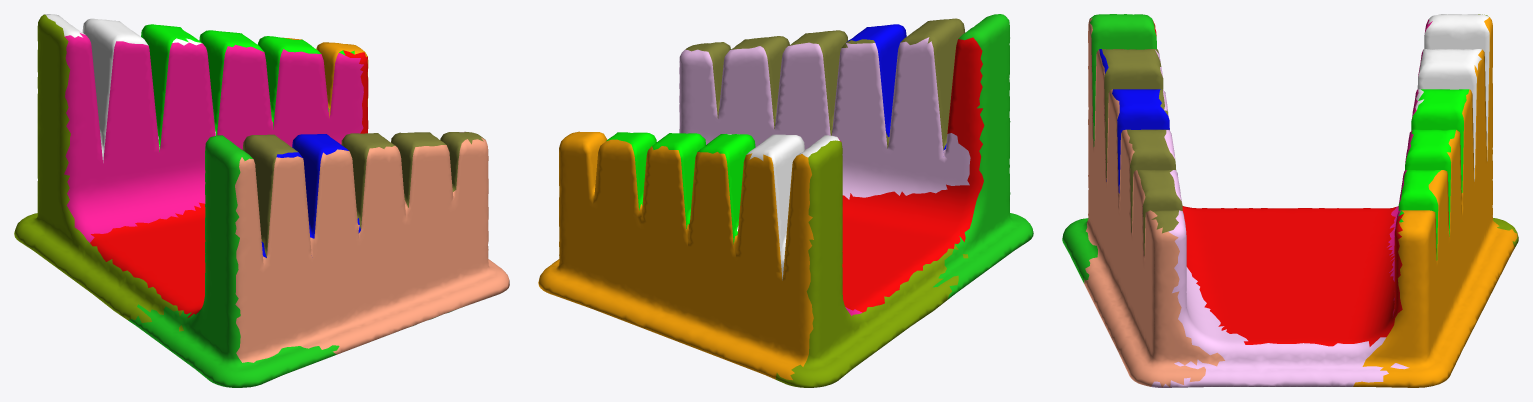
Rendered from model_16_segmented_new.obj.
The picture shows the model from 3 angles, left to right: view 1: azimuth 30°, elevation 25°; view 2: azimuth 150°, elevation 25°; view 3: azimuth 270°, elevation 25°; orthographic projection.
Size of the model in its own units: 56.54 by 36.18 by 66.89.
